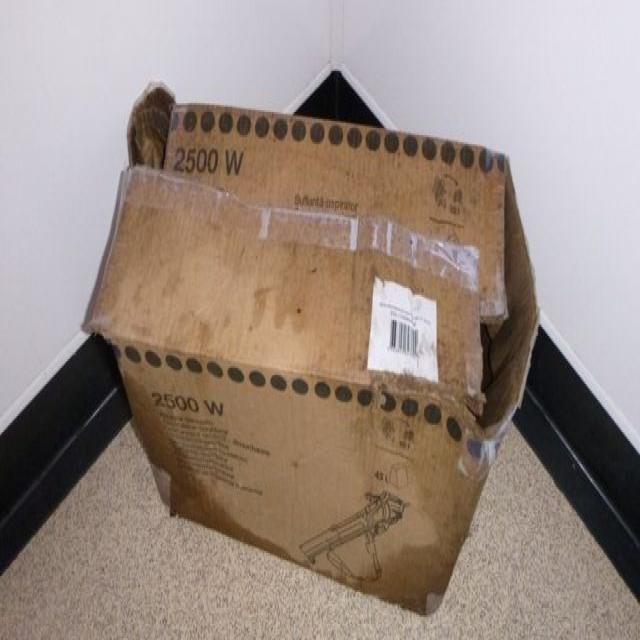damaged: (134, 89, 184, 188)
